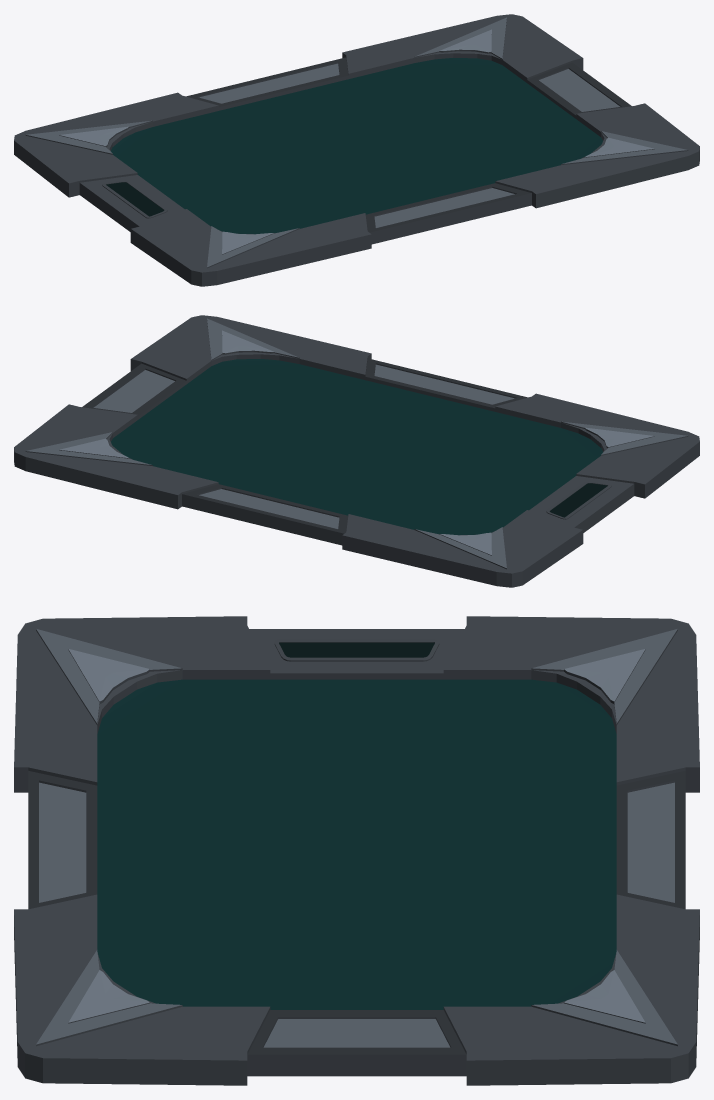
Rendered from fururistic_tablet .fbx.
3 views of the same model, one above another, from view 1: azimuth 30°, elevation 25°; view 2: azimuth 150°, elevation 25°; view 3: azimuth 270°, elevation 25° (orthographic). The views are drawn at different scales.
Parts seen in each view (by area): view 1: Cube; view 2: Cube; view 3: Cube.
Boxes of the visible parts, left/top/right/bottom form: Cube: left=14, top=14, right=699, bottom=286; Cube: left=14, top=315, right=699, bottom=587; Cube: left=14, top=616, right=699, bottom=1085.
Size of the model in its own units: 36.33 by 1.23 by 23.7.
